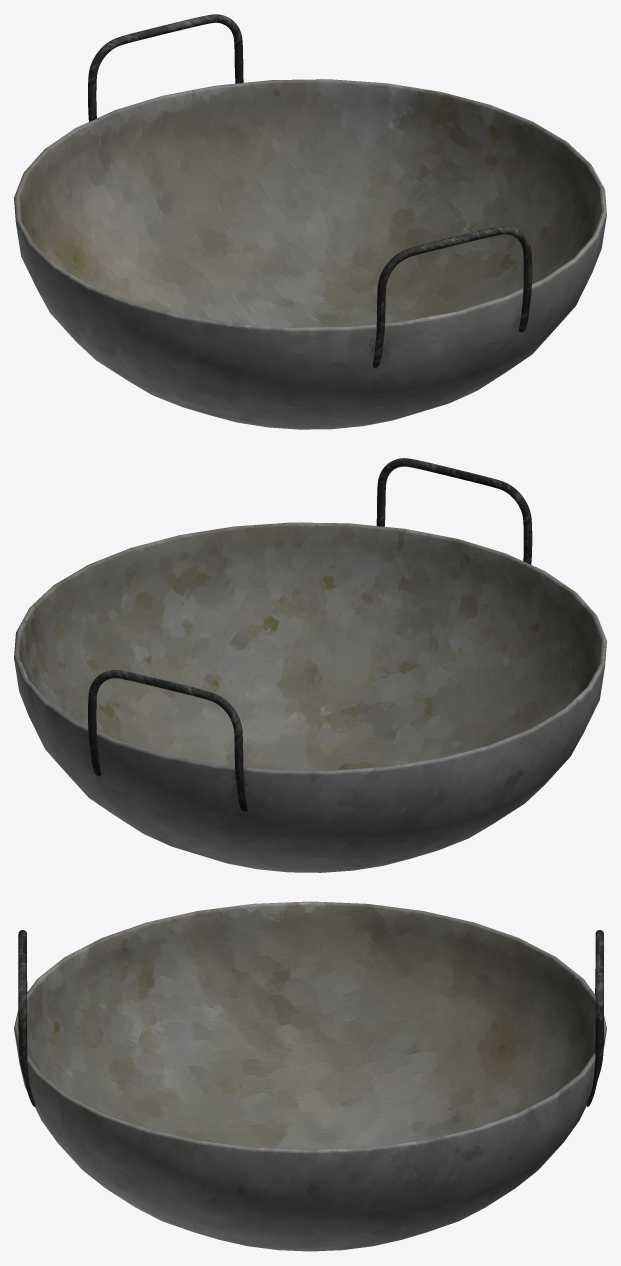
The model's file is Kuali.fbx.
The picture shows the model from 3 angles, top to bottom: view 1: azimuth 30°, elevation 25°; view 2: azimuth 150°, elevation 25°; view 3: azimuth 270°, elevation 25°; orthographic projection.
Visible parts, largest first — view 1: _high merge; view 2: _high merge; view 3: _high merge.
Part boxes in pixels (<box>): _high merge: <box>14,14,606,429</box>; _high merge: <box>14,458,606,872</box>; _high merge: <box>14,901,606,1251</box>.
Bounding box in the file's own units: 200 × 96.35 × 200.
2 materials, 2 textured.
